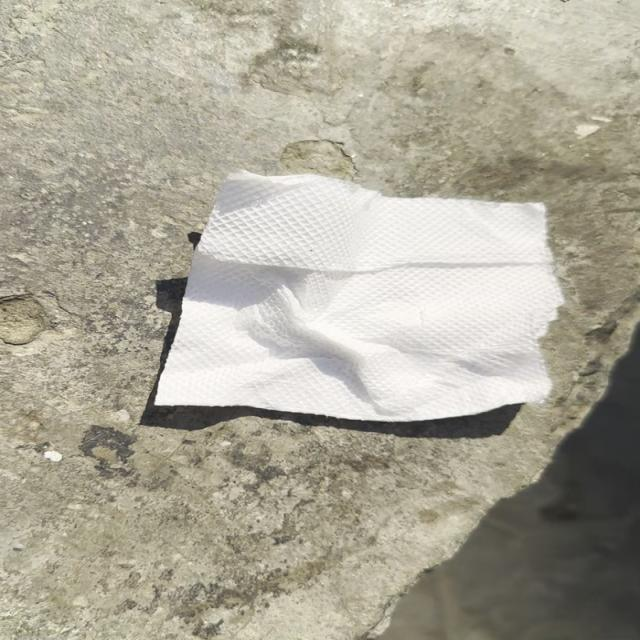tissue: (150, 166, 562, 416)
